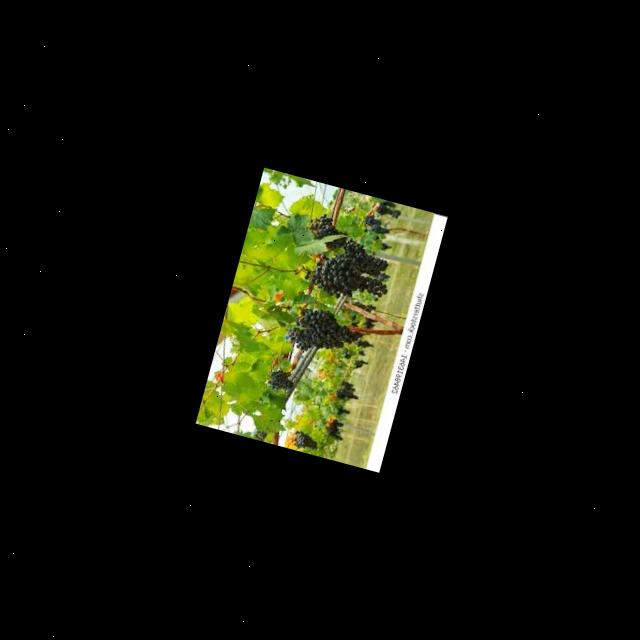grape: (282, 301, 362, 364), (264, 366, 296, 394)
